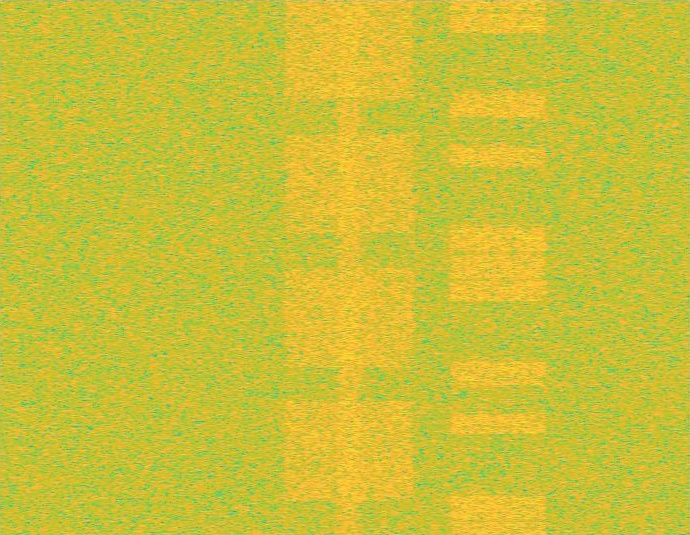5G: (281, 0, 419, 534)
DSSS: (334, 0, 365, 534)
LTE: (447, 0, 550, 534)
Radar: (524, 0, 538, 534)
